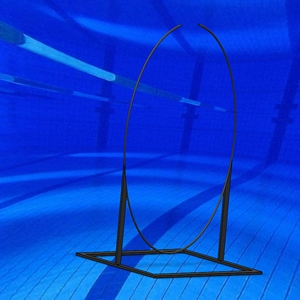circle: (74, 21, 264, 279)
